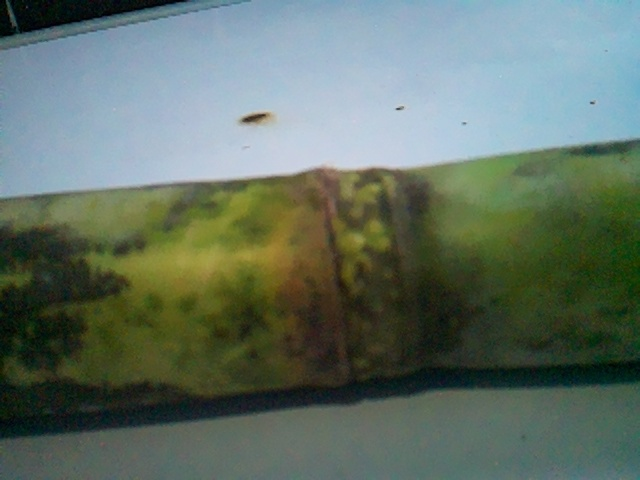Good Sugarcane: (0, 137, 640, 438)
Node: (276, 162, 431, 399)
